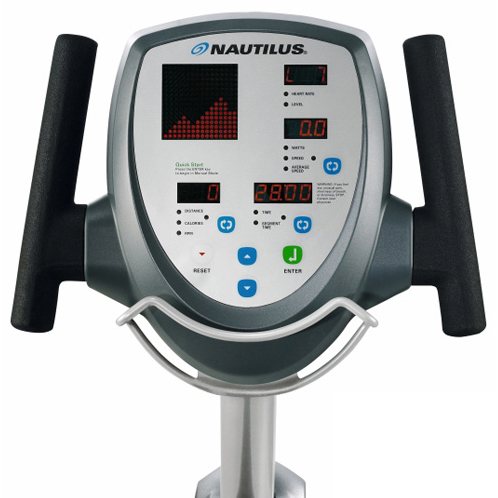gym_bike: (20, 21, 488, 492)
